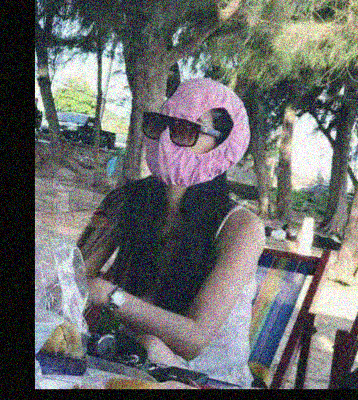with_mask: (143, 106, 214, 187)
